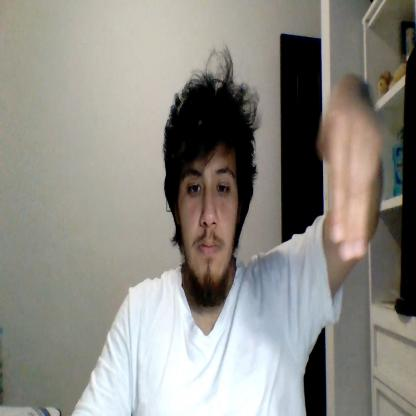M: (318, 72, 383, 263)
